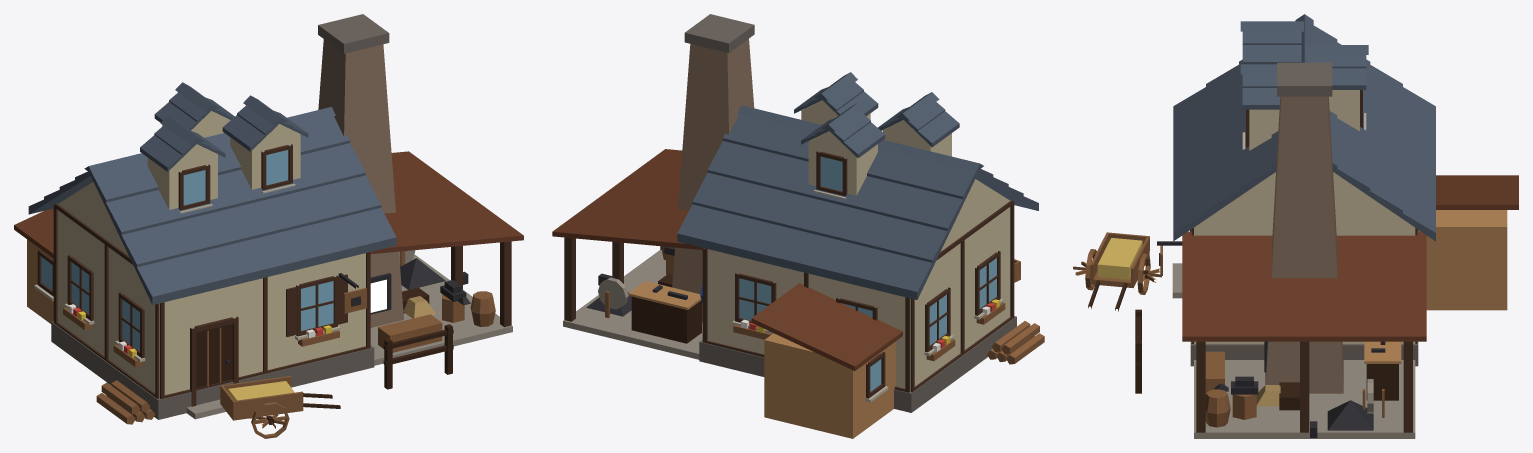
The model's file is blacksmith.fbx.
3 renders of one model, left to right at view 1: azimuth 30°, elevation 25°; view 2: azimuth 150°, elevation 25°; view 3: azimuth 270°, elevation 25°, orthographic. The views are drawn at different scales.
Visible parts, largest first — view 1: blacksmith; view 2: blacksmith; view 3: blacksmith.
Boxes of the visible parts, <box> form: blacksmith: <box>14,14,523,438</box>; blacksmith: <box>552,14,1044,438</box>; blacksmith: <box>1073,14,1518,438</box>.
Bounding box in the file's own units: 10.54 × 7.4 × 9.67.
